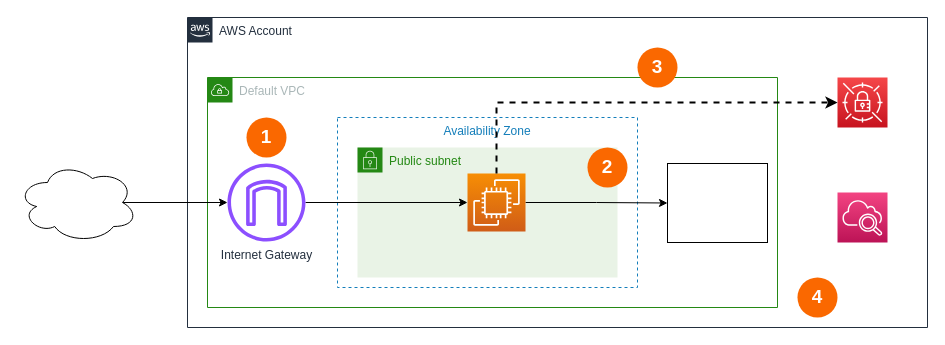
This 945x345 diagram has some shape labels left out. The centre of each missing label's shape, as x and y in pixels:
"Amazon CloudWatch Stacks Metrics" belongs at point 862,217.
"Amazon EC2 Stacks Node" belongs at point 496,202.
"AWS Secrets Manager" belongs at point 862,102.
"Self-built and run dApps" belongs at point 717,202.
"Stacks Blockchain Network" belongs at point 77,202.
